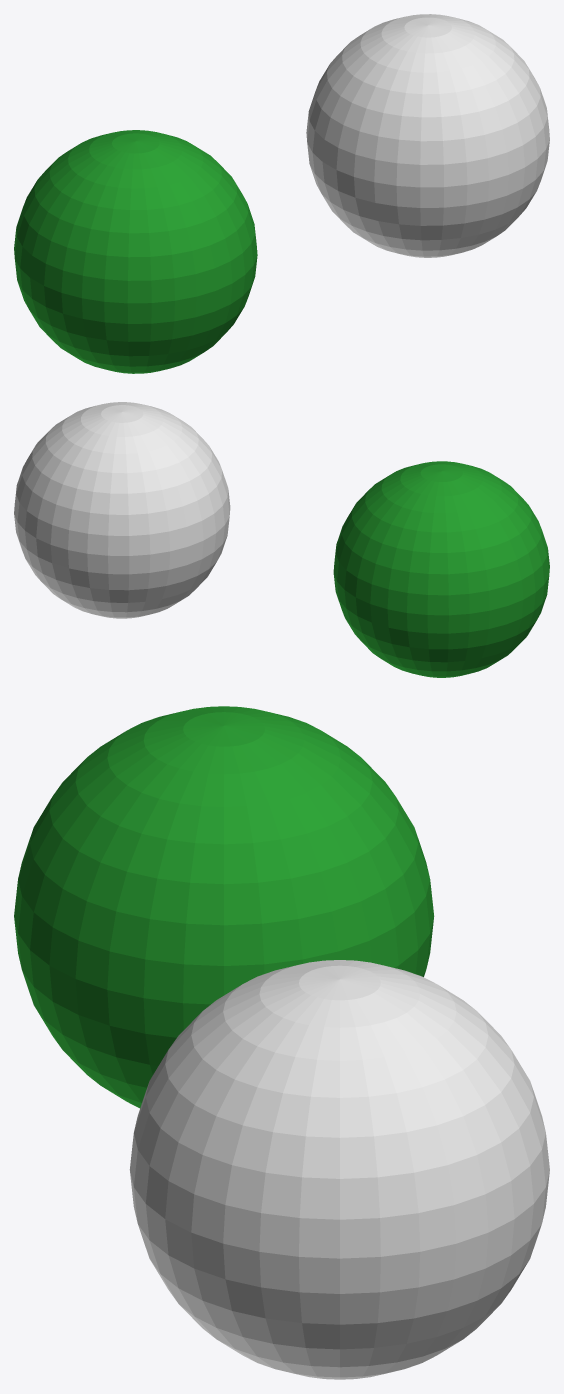
Rendered from path_tracing_scene2.dae.
3 renders of one model, top to bottom at view 1: azimuth 30°, elevation 25°; view 2: azimuth 150°, elevation 25°; view 3: azimuth 270°, elevation 25°, orthographic. The views are drawn at different scales.
Parts seen in each view (by area): view 1: Sphere, Sphere.001; view 2: Sphere, Sphere.001; view 3: Sphere.001, Sphere.
Part boxes in pixels (bbox=[...]): Sphere: bbox=[14, 130, 257, 373]; Sphere.001: bbox=[306, 14, 549, 257]; Sphere: bbox=[333, 461, 549, 677]; Sphere.001: bbox=[14, 402, 230, 618]; Sphere.001: bbox=[129, 960, 549, 1379]; Sphere: bbox=[14, 706, 434, 1108].
Size of the model in its own units: 5.08 by 2.55 by 2.11.
